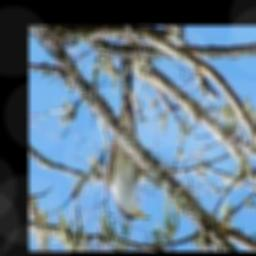Cuckoo: (106, 54, 149, 221)
